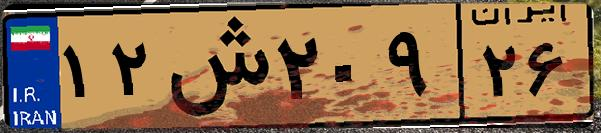0: (330, 28, 385, 110)
1: (57, 26, 110, 100)
2: (270, 28, 330, 110), (475, 38, 525, 113), (110, 28, 158, 98)
6: (525, 38, 570, 115)
9: (385, 28, 445, 110)
ش: (158, 12, 270, 120)
